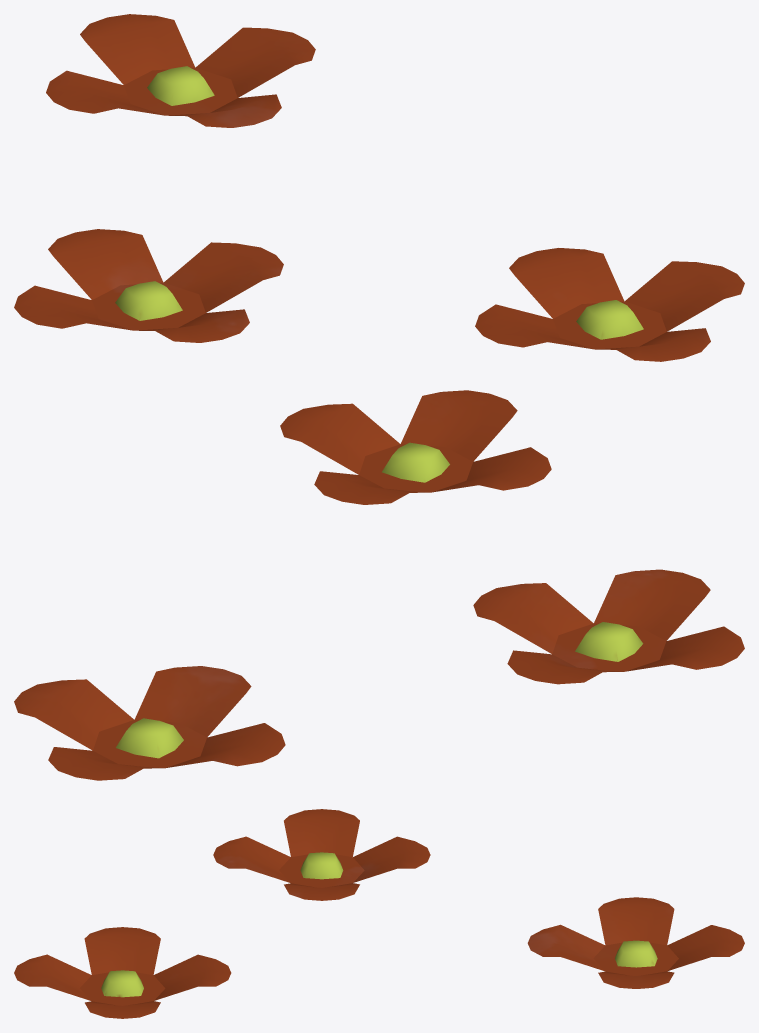
Rendered from Flower_3.fbx.
3 renders of one model, top to bottom at view 1: azimuth 30°, elevation 25°; view 2: azimuth 150°, elevation 25°; view 3: azimuth 270°, elevation 25°, orthographic. The views are drawn at different scales.
Visible parts, largest first — view 1: Plane.008, Plane.017, Plane.016; view 2: Plane.016, Plane.008, Plane.017; view 3: Plane.008, Plane.016, Plane.017.
Boxes of the visible parts, x1,y1,x2,y2 form: Plane.008: (475, 248, 744, 361); Plane.017: (14, 229, 283, 342); Plane.016: (46, 14, 315, 127); Plane.016: (14, 666, 285, 780); Plane.008: (280, 390, 551, 504); Plane.017: (473, 569, 744, 684); Plane.008: (14, 927, 231, 1018); Plane.016: (527, 897, 744, 988); Plane.017: (213, 809, 430, 900).
Size of the model in its own units: 34.66 by 1.35 by 51.02.
